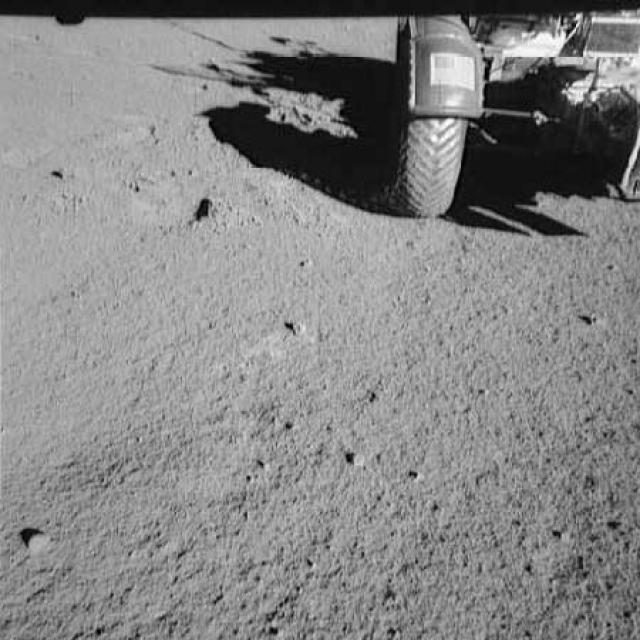artifact: (362, 6, 638, 222)
rock: (194, 190, 232, 222), (13, 525, 52, 556)
